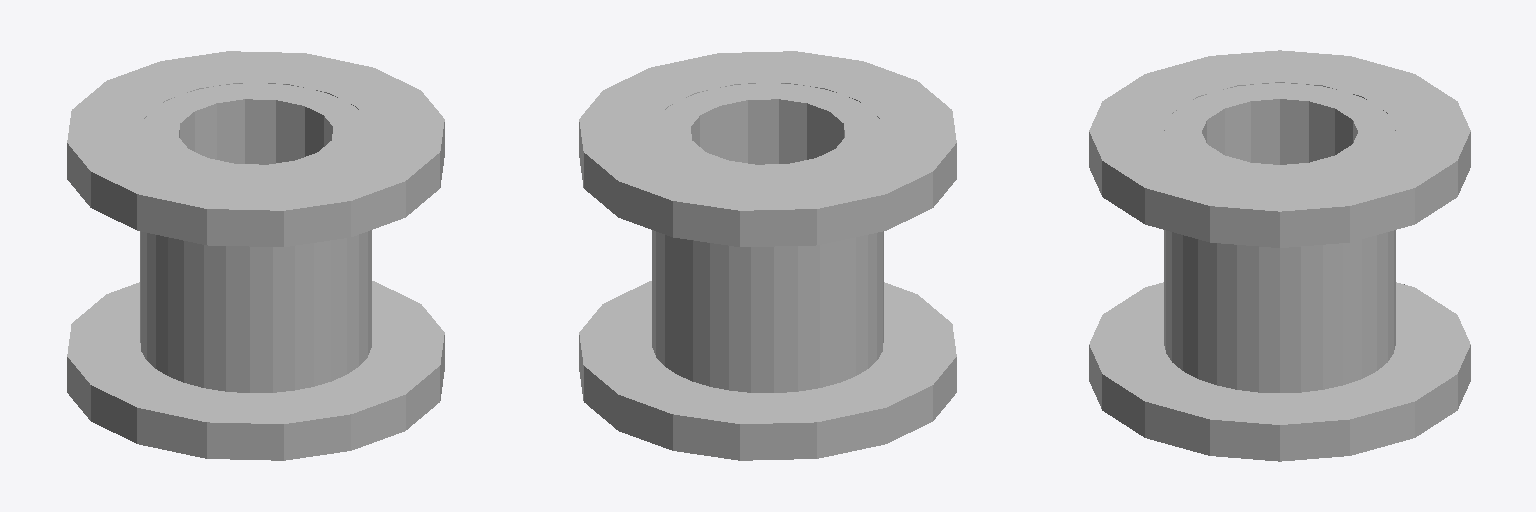
The model's file is zMotorPulley.obj.
The picture shows the model from 3 angles: view 1: azimuth 30°, elevation 25°; view 2: azimuth 150°, elevation 25°; view 3: azimuth 270°, elevation 25°; orthographic projection.
Parts seen in each view (by area): view 1: object_1; view 2: object_1; view 3: object_1.
Boxes of the visible parts, box(x1,y1,x2,y2) form: object_1: box(67, 51, 444, 460); object_1: box(579, 51, 956, 460); object_1: box(1089, 50, 1470, 461).
Bounding box in the file's own units: 0.61 × 0.4406 × 0.61.